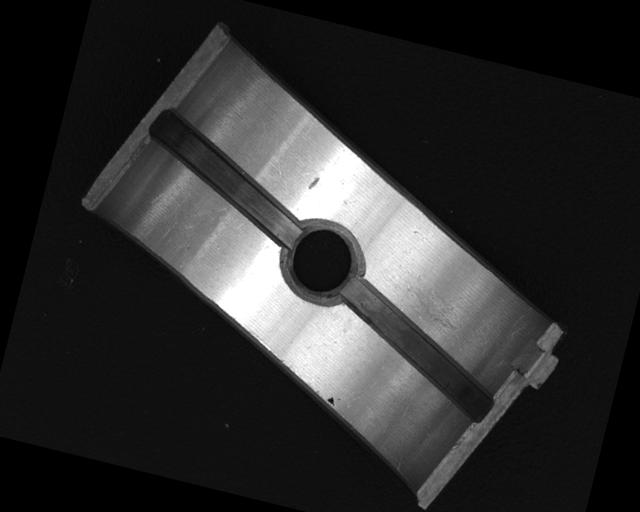blot: (325, 395, 338, 407)
bruise: (306, 173, 320, 191)
gap: (131, 105, 321, 248), (323, 275, 511, 418)
hole: (277, 210, 369, 309)
scratch: (391, 270, 478, 356)
